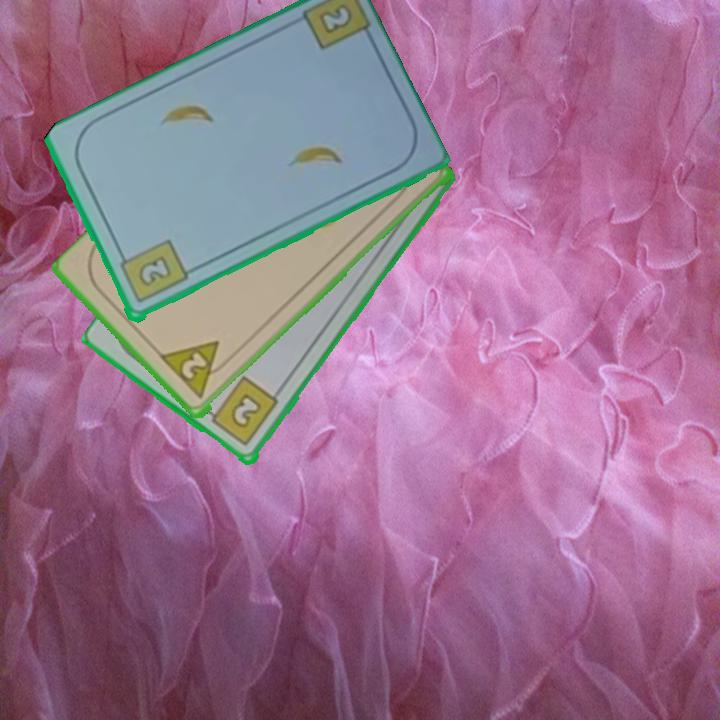2b: (202, 373, 281, 450), (115, 236, 191, 307), (318, 4, 352, 34)
2p: (158, 337, 234, 402)
